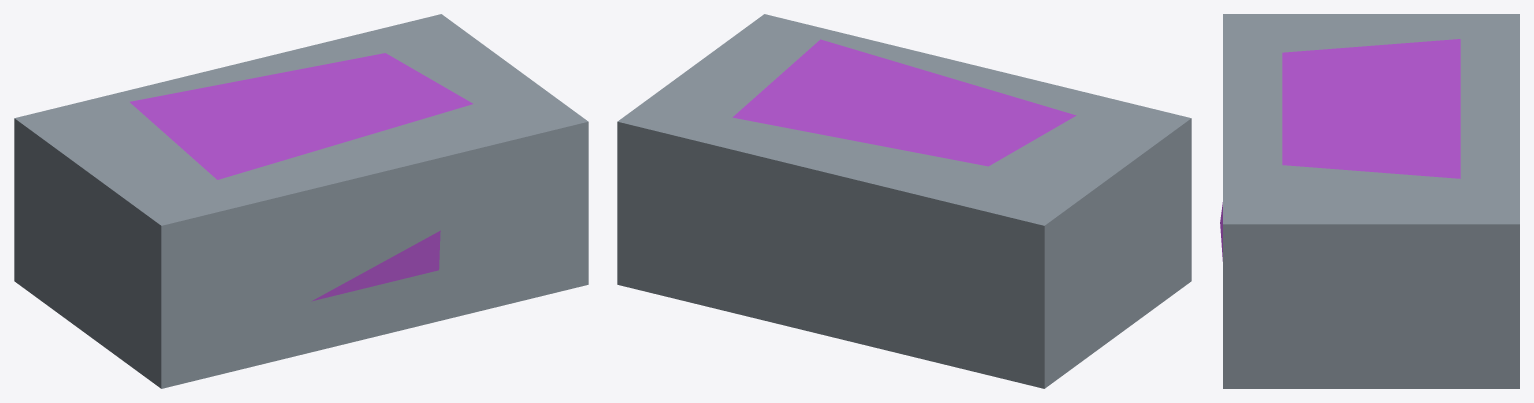
The model's file is CH_ProbabilistHarvester_LOD1.glb.
The picture shows the model from 3 angles, left to right: view 1: azimuth 30°, elevation 25°; view 2: azimuth 150°, elevation 25°; view 3: azimuth 270°, elevation 25°; orthographic projection.
Parts seen in each view (by area): view 1: EntranceGate; view 2: EntranceGate; view 3: EntranceGate.
Part boxes in pixels (left/top/right/bottom): EntranceGate: left=14, top=14, right=588, bottom=388; EntranceGate: left=617, top=14, right=1191, bottom=388; EntranceGate: left=1220, top=14, right=1519, bottom=388.
Size of the model in its own units: 570 by 230 by 343.
